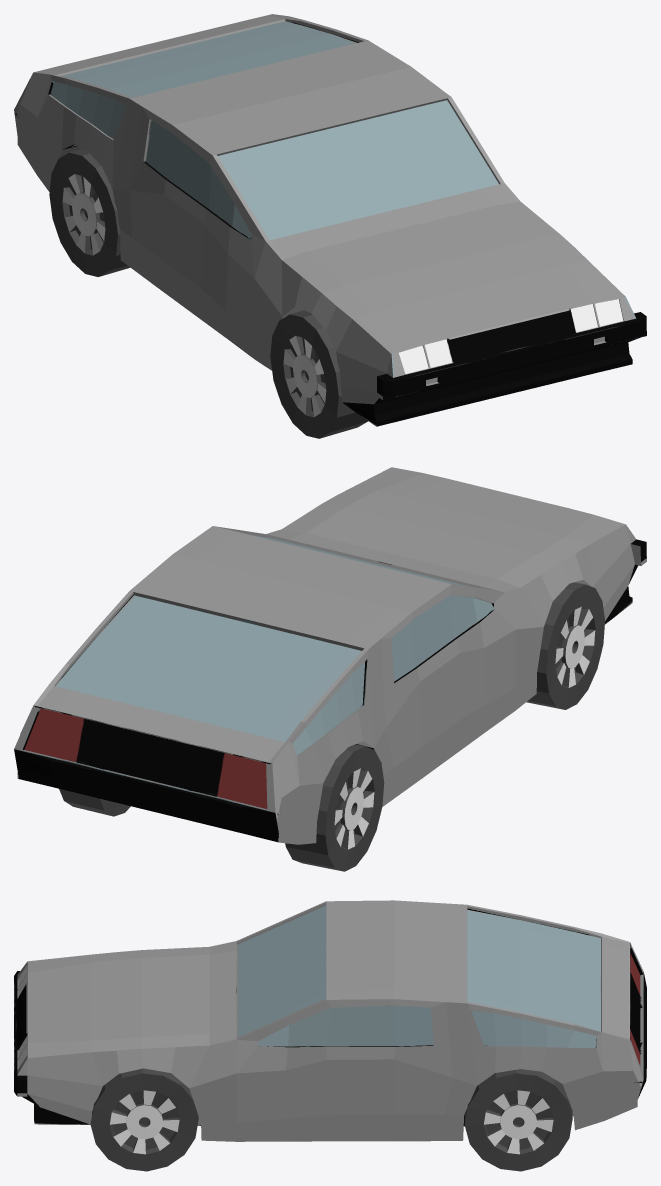
The model's file is delorean2uv+lod.fbx.
3 renders of one model, top to bottom at view 1: azimuth 30°, elevation 25°; view 2: azimuth 150°, elevation 25°; view 3: azimuth 270°, elevation 25°, orthographic. The views are drawn at different scales.
Parts seen in each view (by area): view 1: Delorean_LOD0, Rueda2D_LOD0, Rueda3D_LOD0; view 2: Delorean_LOD0, Rueda3D_LOD0, Rueda2D_LOD0, Rueda4D_LOD0; view 3: Delorean_LOD0, Rueda4D_LOD0, Rueda1D_LOD0.
Part boxes in pixels (left/top/right/bottom): Delorean_LOD0: left=14, top=14, right=646, bottom=426; Rueda2D_LOD0: left=270, top=310, right=368, bottom=438; Rueda3D_LOD0: left=49, top=148, right=129, bottom=276; Delorean_LOD0: left=14, top=467, right=646, bottom=844; Rueda3D_LOD0: left=285, top=744, right=384, bottom=871; Rueda2D_LOD0: left=526, top=582, right=604, bottom=709; Rueda4D_LOD0: left=59, top=788, right=130, bottom=816; Delorean_LOD0: left=14, top=900, right=646, bottom=1141; Rueda4D_LOD0: left=464, top=1069, right=572, bottom=1171; Rueda1D_LOD0: left=90, top=1068, right=198, bottom=1171.
Size of what is drawn, in the model's own units: 231 by 159 by 547.
